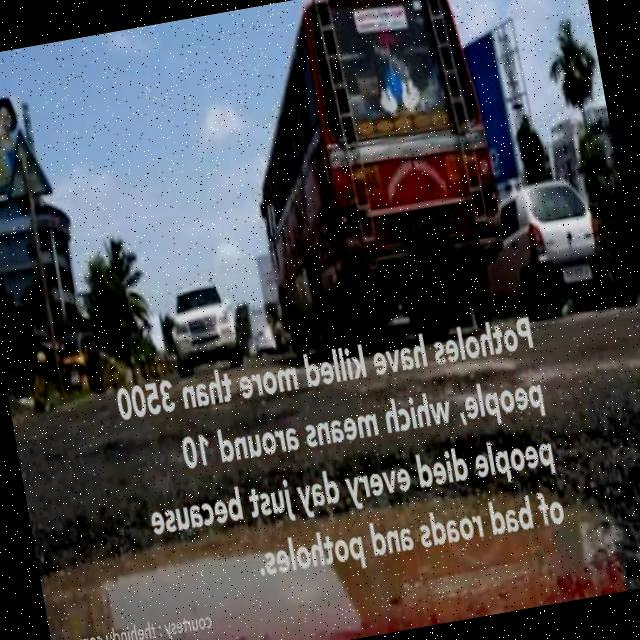pothole: (61, 441, 620, 640)
